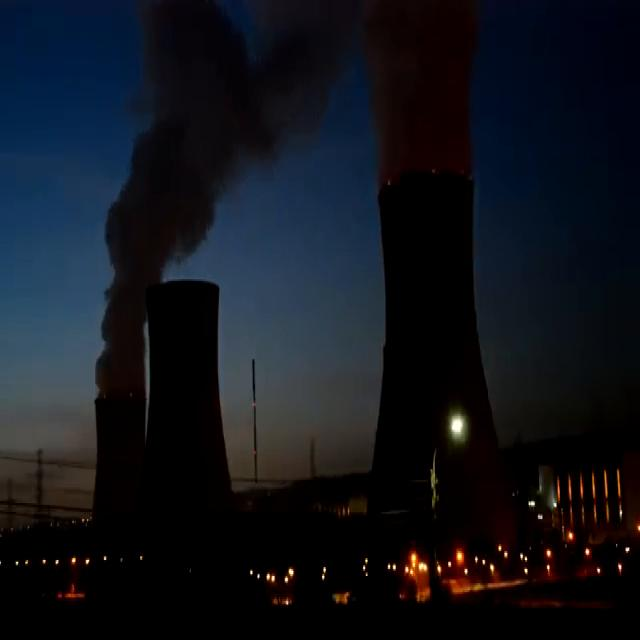smoke: (98, 0, 361, 393), (362, 0, 479, 194)
